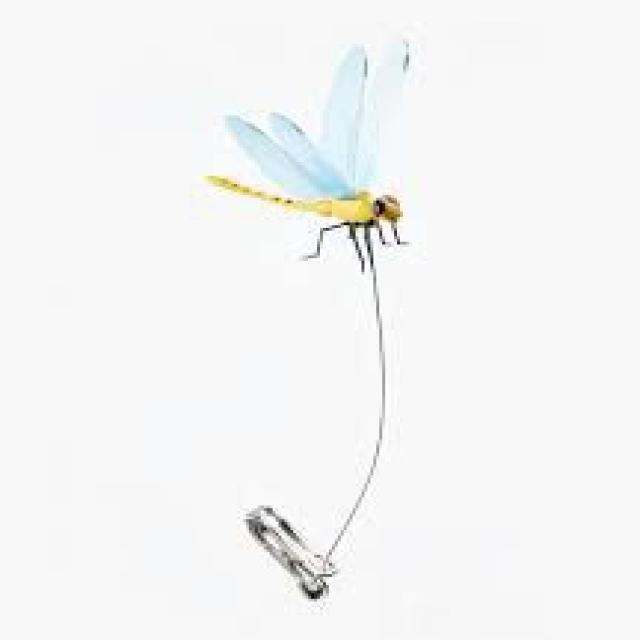dragonfly: (207, 41, 409, 269)
